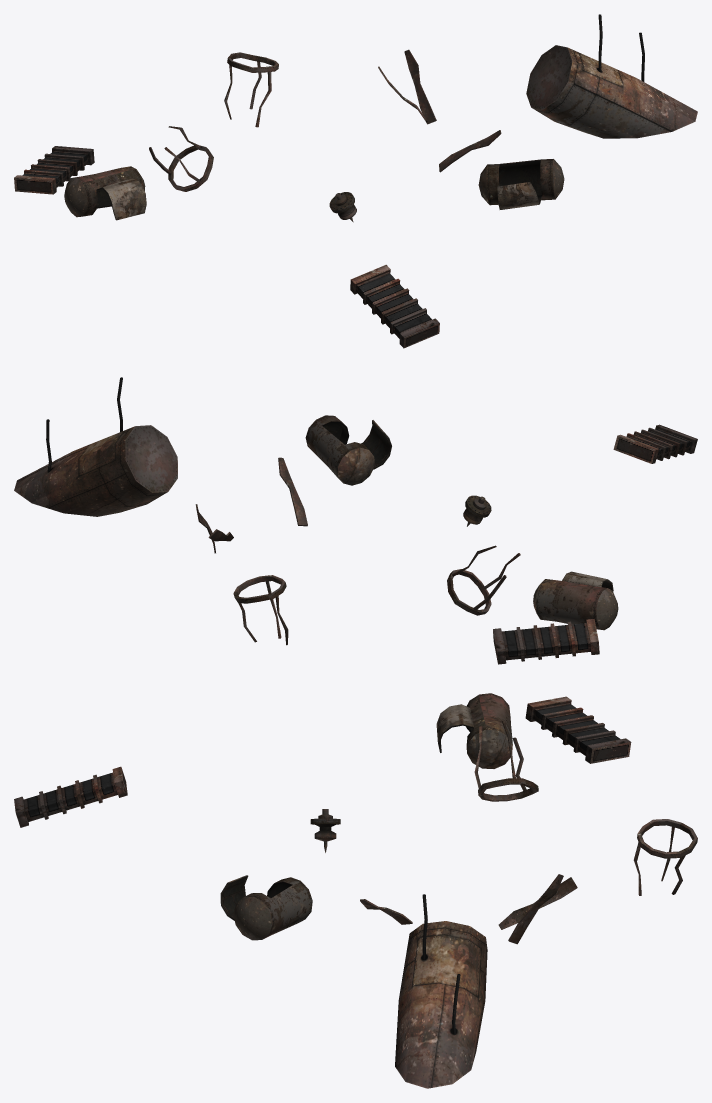
File: rubble.dae
The picture shows the model from 3 angles, top to bottom: view 1: azimuth 30°, elevation 25°; view 2: azimuth 150°, elevation 25°; view 3: azimuth 270°, elevation 25°; orthographic projection. The views are drawn at different scales.
Parts seen in each view (by area): view 1: Cylinder002, box_rubble001, OilTank002, OilTank003, box_rubble002, rubble001, rubble002, scrap_metal, Line002, scrap_metal002; view 2: Cylinder002, OilTank003, OilTank002, box_rubble002, box_rubble001, rubble001, rubble002, scrap_metal002, Line002; view 3: Cylinder002, OilTank002, OilTank003, box_rubble002, box_rubble001, rubble002, rubble001, scrap_metal, scrap_metal001, Line002.
Boxes of the visible parts, box(x1,y1,x2,y2) form: Cylinder002: box(526, 14, 697, 138); box_rubble001: box(350, 264, 439, 348); OilTank002: box(478, 159, 564, 209); OilTank003: box(64, 166, 146, 220); box_rubble002: box(14, 146, 94, 194); rubble001: box(224, 52, 278, 127); rubble002: box(149, 126, 213, 191); scrap_metal: box(404, 49, 436, 124); Line002: box(329, 192, 356, 222); scrap_metal002: box(439, 130, 501, 172); Cylinder002: box(14, 377, 177, 516); OilTank003: box(533, 571, 618, 630); OilTank002: box(305, 415, 391, 485); box_rubble002: box(493, 619, 599, 664); box_rubble001: box(613, 424, 697, 463); rubble001: box(233, 575, 288, 645); rubble002: box(447, 545, 520, 615); scrap_metal002: box(278, 457, 307, 526); Line002: box(463, 495, 491, 526); Cylinder002: box(395, 894, 487, 1088); OilTank002: box(220, 875, 312, 940); OilTank003: box(436, 693, 512, 768); box_rubble002: box(525, 696, 631, 763); box_rubble001: box(14, 766, 127, 827); rubble002: box(474, 721, 538, 801); rubble001: box(633, 819, 697, 895); scrap_metal: box(508, 874, 563, 944); scrap_metal001: box(498, 877, 577, 929); Line002: box(310, 809, 340, 852).
Bounding box in the file's own units: 80.27 × 67.15 × 15.02.
1 material, 1 textured.
